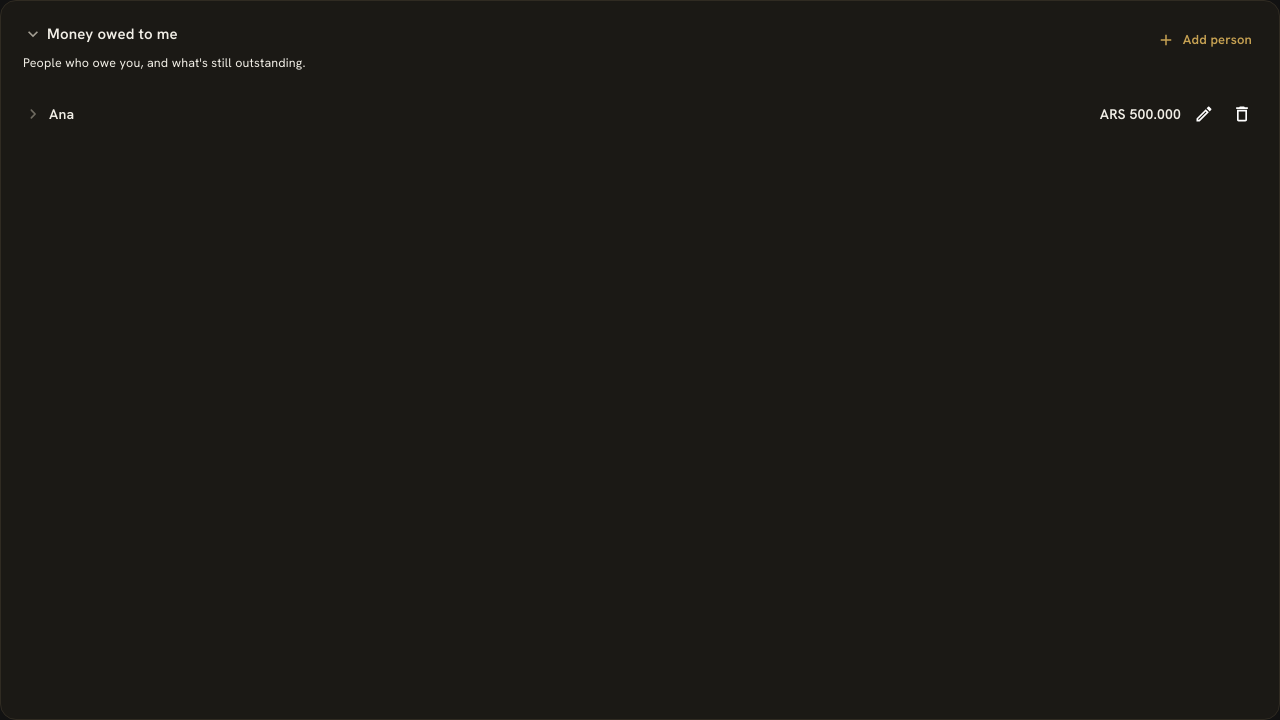
Test: MatchSuggestions + PDF export (task 9) › labels a low-score suggestion "Possible match" (relevance reads without color, ADR-019)
Expected: the text "Ana" is shown, left=49, top=104, right=74, bottom=124
Click the button with aria-label "Show Ana's items": (1140, 114) left=23, top=104, right=1181, bottom=124
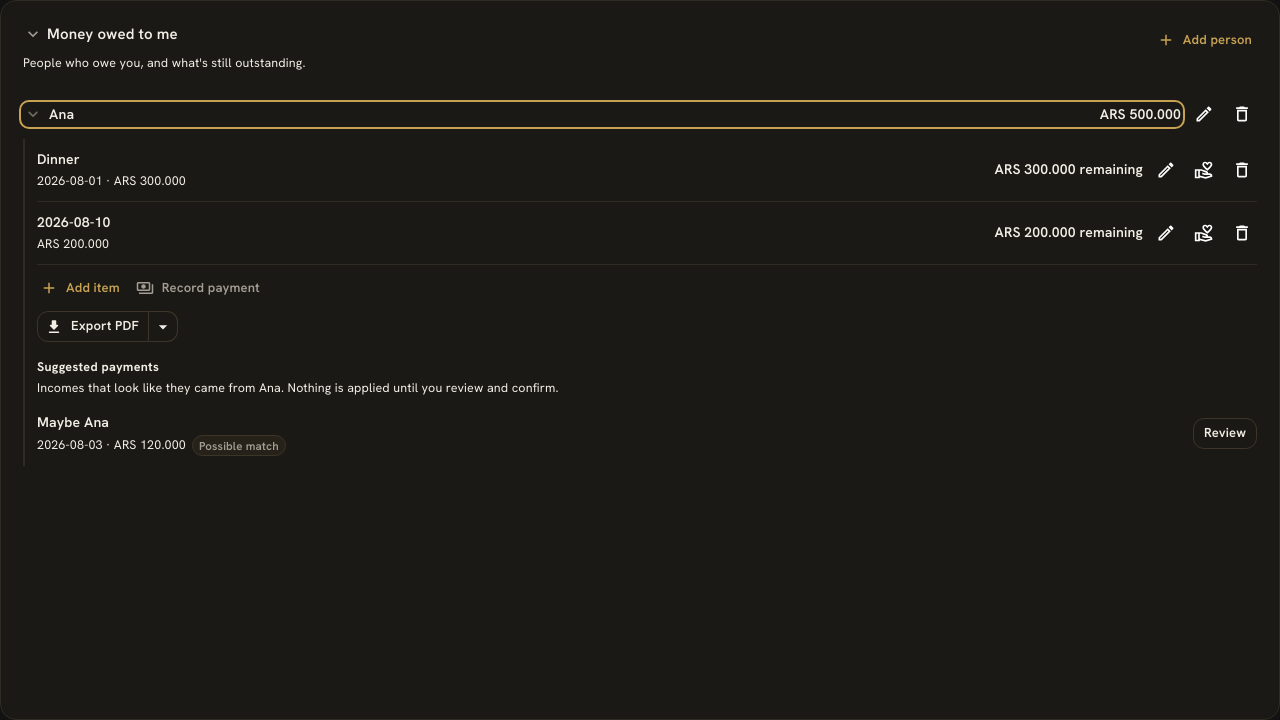
Now the text "Dinner" is shown, box left=37, top=149, right=80, bottom=170
Now the element with test id "receivable-suggestion" shows "Maybe Ana", box left=37, top=412, right=109, bottom=430
Now the element with test id "receivable-suggestion" shows "Possible match", box left=199, top=438, right=279, bottom=452
